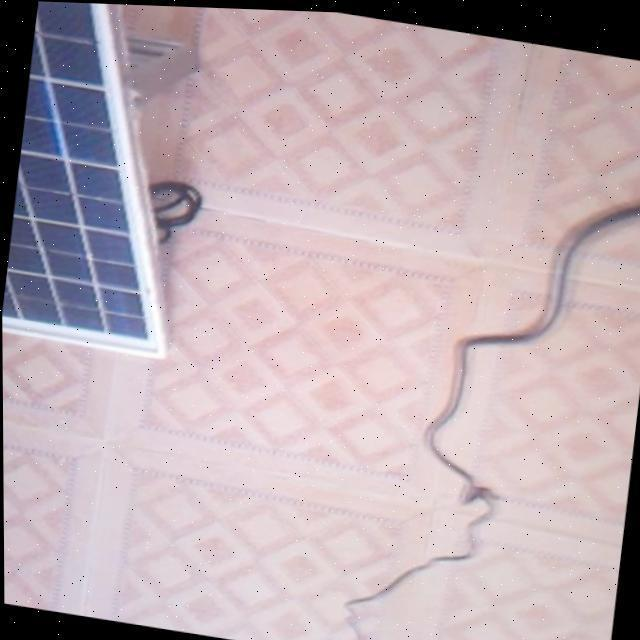Normal Solar Panel: (0, 0, 207, 358)
